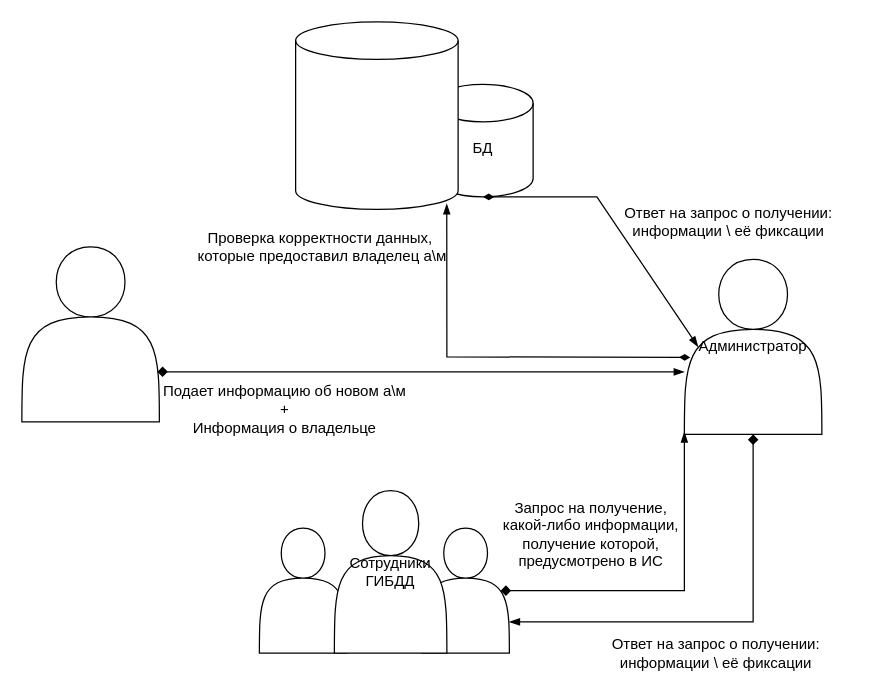
The diagram is 869 pixels wide and 700 high, and some of its shapes have lost their labels. The centre of each missing label's shape, as x and y in pixels:
"Владелец а\м" goes at (x=90, y=334).
"Информационная система для ГИБДД" goes at (x=376, y=115).
